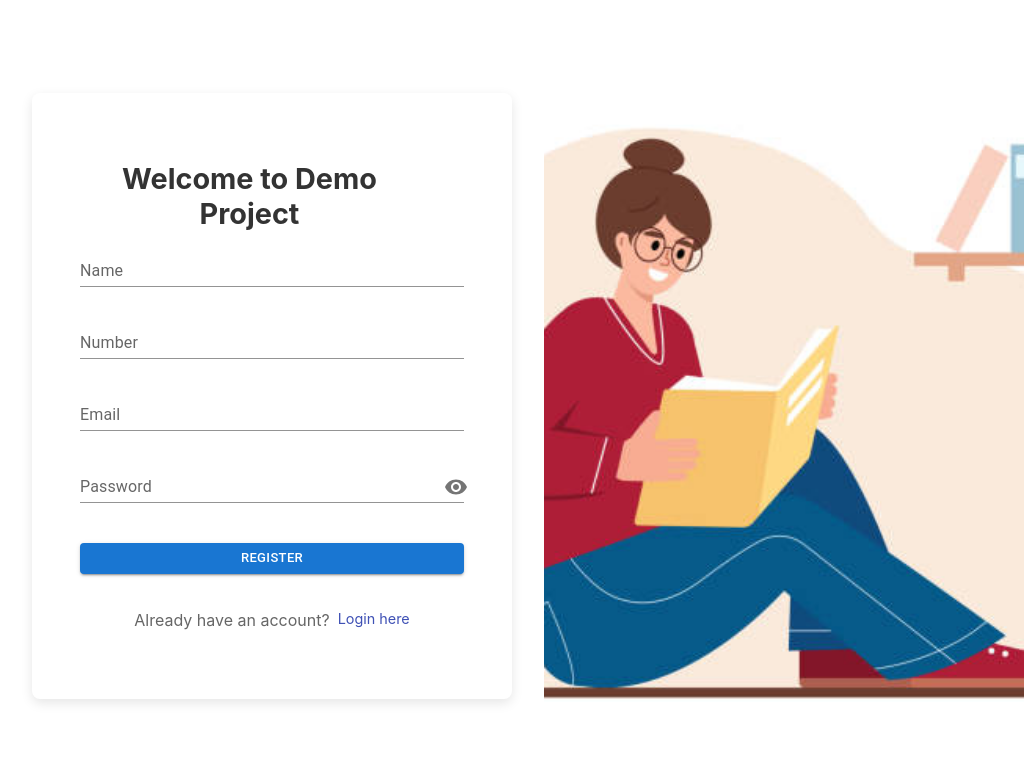
Register spec › validates form fields with incorrect inputs
What coordinates should you click on to do the following:
click the submit button
I would click on:
 (272, 559)
Its box is top-left (80, 543), bottom-right (464, 574).
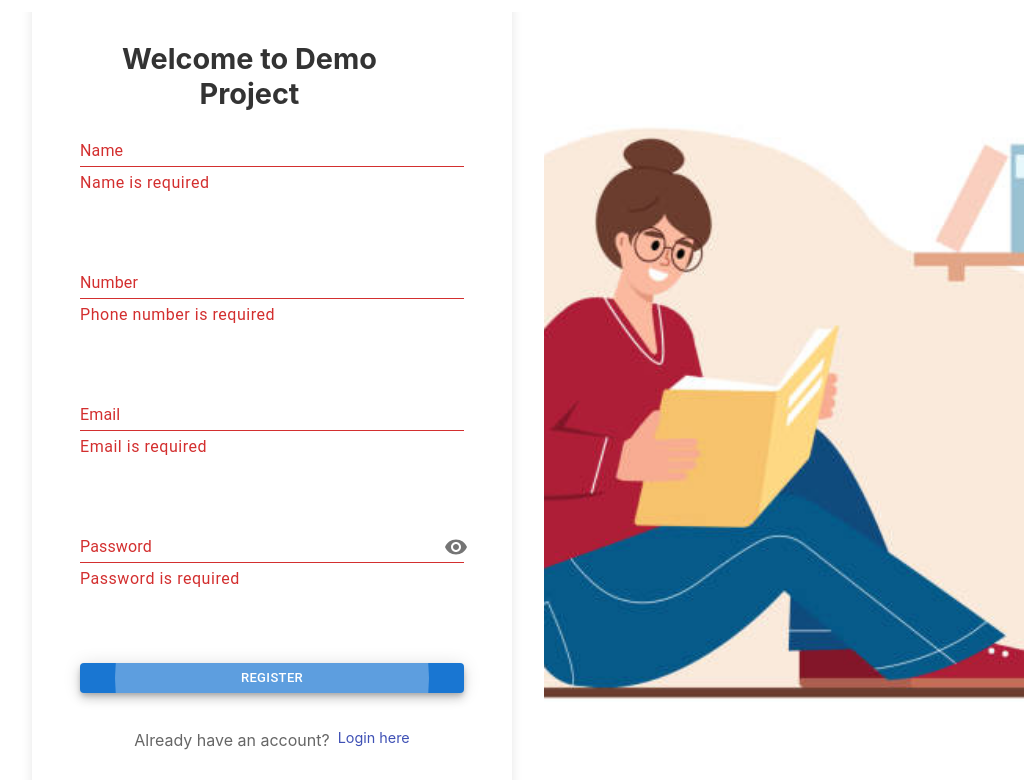
Expected: the text "Name is required" is shown, top-left (80, 173), bottom-right (210, 192)
Expected: the text "Phone number is required" is shown, top-left (80, 305), bottom-right (275, 324)
Expected: the text "Email is required" is shown, top-left (80, 437), bottom-right (207, 456)
